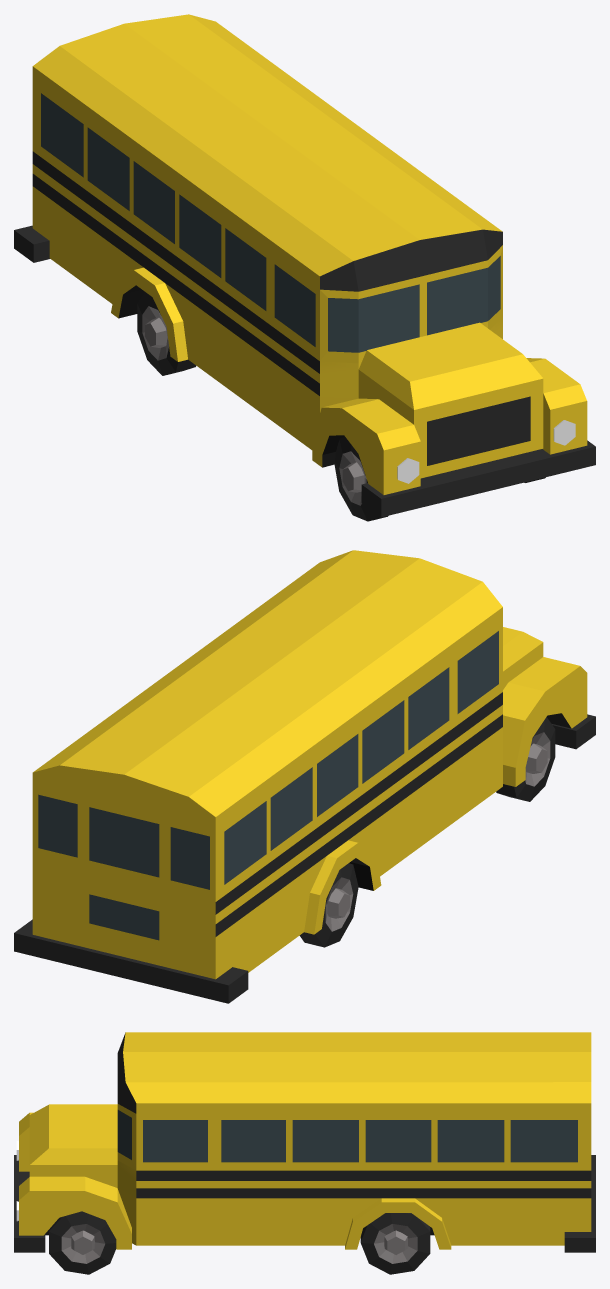
Rendered from vehicles_bus-school.fbx.
3 renders of one model, top to bottom at view 1: azimuth 30°, elevation 25°; view 2: azimuth 150°, elevation 25°; view 3: azimuth 270°, elevation 25°, orthographic. The views are drawn at different scales.
Visible parts, largest first — view 1: bus_school_base, bus_school_wheel_BR, bus_school_wheel_FR; view 2: bus_school_base, bus_school_wheel_BR, bus_school_wheel_FR; view 3: bus_school_base, bus_school_wheel_BL, bus_school_wheel_FL.
Part boxes in pixels (x1,y1,x2,y2): bus_school_base: (14, 14, 595, 517); bus_school_wheel_BR: (137, 292, 195, 375); bus_school_wheel_FR: (334, 437, 388, 521); bus_school_base: (14, 550, 595, 1003); bus_school_wheel_BR: (299, 863, 358, 947); bus_school_wheel_FR: (496, 717, 555, 801); bus_school_base: (14, 1032, 595, 1252); bus_school_wheel_BL: (360, 1213, 430, 1274); bus_school_wheel_FL: (49, 1211, 116, 1274).
Size of the model in its own units: 67.46 by 71.44 by 200.
